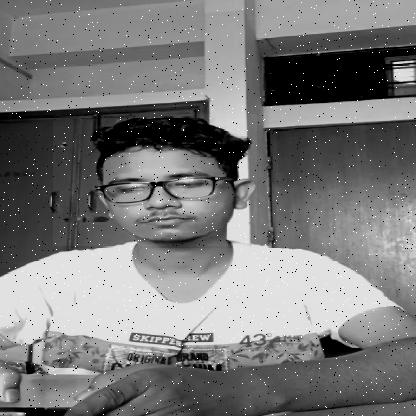Normal: (53, 114, 257, 246)
